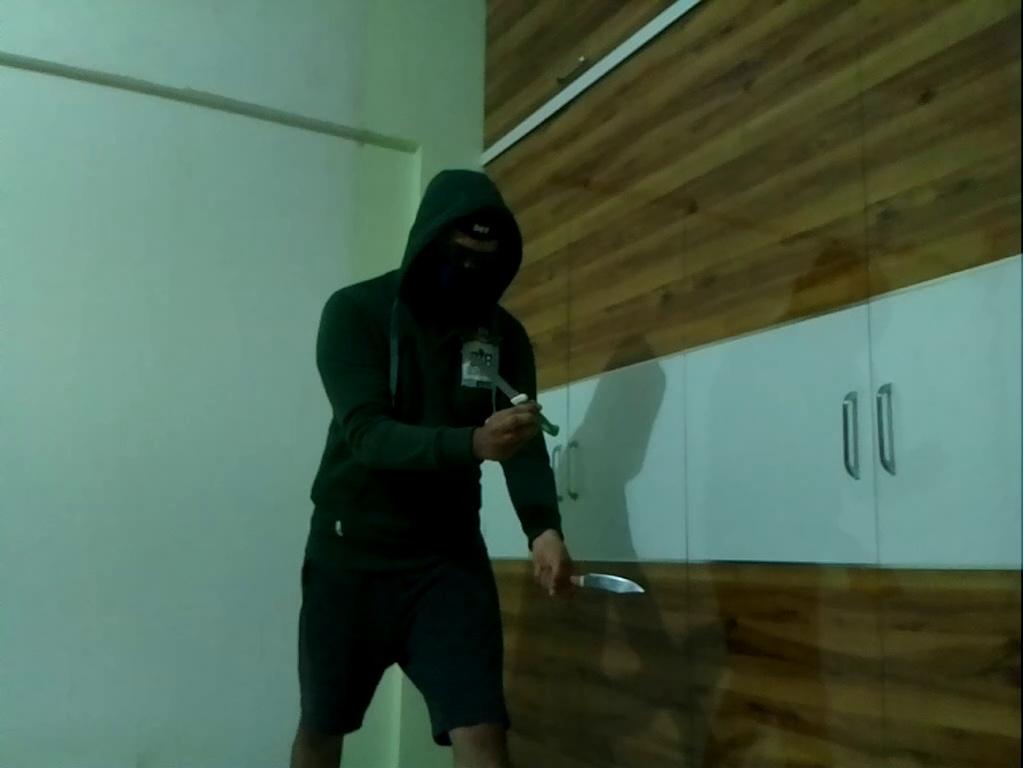knife: (551, 566, 650, 600)
